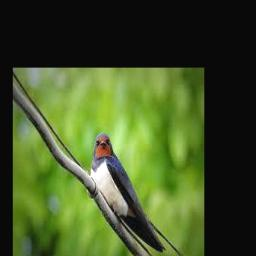Swallow: (90, 132, 184, 256)
